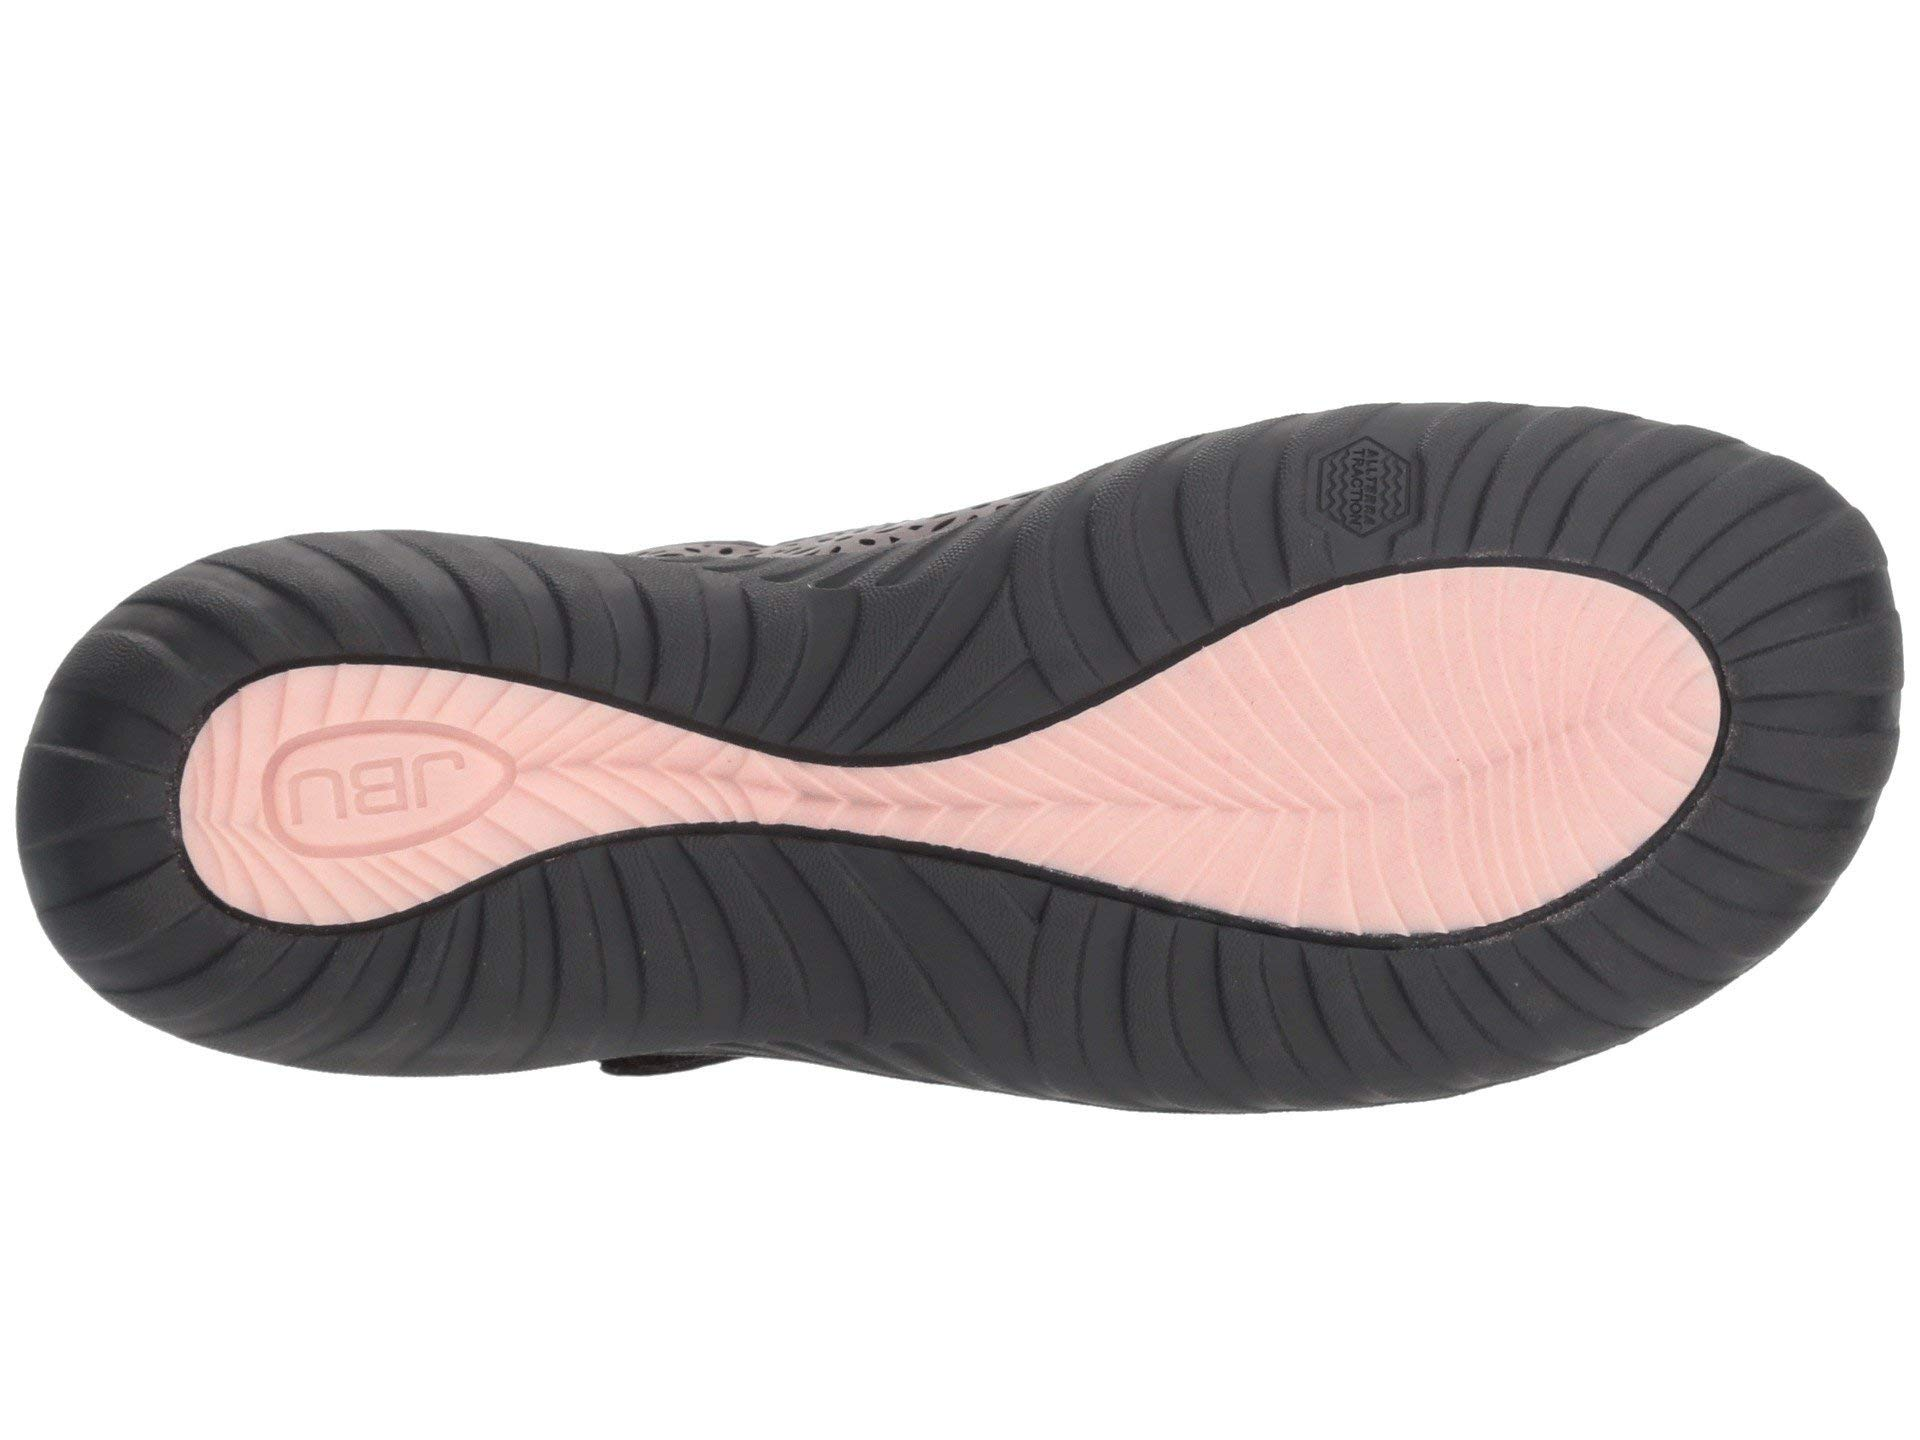chevron: (765, 743, 1327, 915), (546, 706, 773, 826), (1297, 422, 1421, 542)
exclude: (578, 1056, 763, 1080)
polygon: (1297, 422, 1421, 542)
quad: (1678, 493, 1903, 861), (627, 820, 928, 1072), (144, 898, 562, 1057), (181, 532, 596, 679), (1085, 889, 1330, 1137), (1364, 936, 1646, 1051)
text: (242, 715, 525, 852), (1297, 422, 1421, 542)
triangle: (242, 715, 525, 852)
